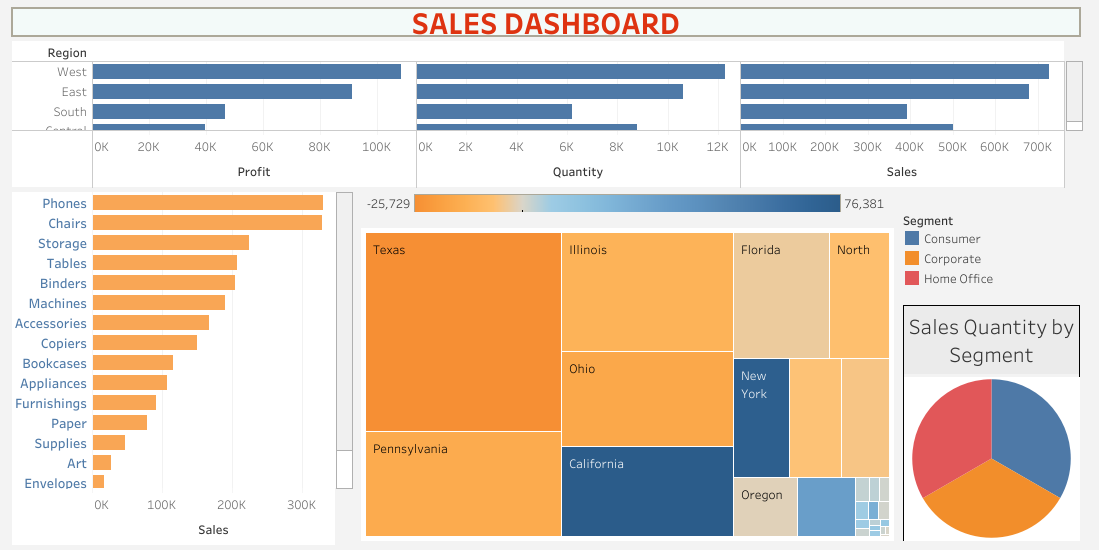

Layout of this report page (visuals, bound fields, positions):
{"tool":"tableau","page":{"name":"Dashboard 1","canvas":[1000,1000],"units":"permille","ordinal":0},"visuals":[{"type":"title","box":[10,13.5,972.7,54]},{"type":"worksheet","title":"Sales By Region","mark":"Automatic","rows":["Region"],"cols":["Profit","Quantity","Sales"],"box":[10.5,74.7,975.5,267.4]},{"type":"legend","title":"Statewise report","param":"[federated.1mxbm3b0zof3iy16trc1w1pfkn0y].[sum:Profit:qk]","box":[330.1,345.5,478.5,39.9]},{"type":"worksheet","title":"Sales By Subcategory","mark":"Automatic","rows":["Sub-Category"],"cols":["Sales"],"box":[11.4,349,309.4,640.6]},{"type":"legend","title":"Sales Quantity by Segment","param":"[federated.1mxbm3b0zof3iy16trc1w1pfkn0y].[none:Segment:nk]","box":[820,379.4,161.8,161.9]},{"type":"worksheet","title":"Statewise report","mark":"Automatic","box":[328.4,387.2,483.8,595.5]},{"type":"worksheet","title":"Totals","mark":"Automatic","box":[408.7,486.1,142,199.7]},{"type":"worksheet","title":"Sales Quantity by Segment","mark":"Pie","box":[820.9,553.1,160.9,428.3]}]}

Visuals, with their boxes on the dashboard's canvas, which has no fixed pixel size, in thousandths of its width and height (x1, y1, x2, y2). These are canvas units, not pixel positions in the 1099x550 screenshot, which may show the page scaled, cropped or inside an application window:
title: bbox=(10, 14, 983, 68)
"Sales By Region" worksheet: bbox=(10, 75, 986, 342)
"Statewise report" legend: bbox=(330, 346, 809, 385)
"Sales By Subcategory" worksheet: bbox=(11, 349, 321, 990)
"Sales Quantity by Segment" legend: bbox=(820, 379, 982, 541)
"Statewise report" worksheet: bbox=(328, 387, 812, 983)
"Totals" worksheet: bbox=(409, 486, 551, 686)
"Sales Quantity by Segment" worksheet (Pie marks): bbox=(821, 553, 982, 981)
